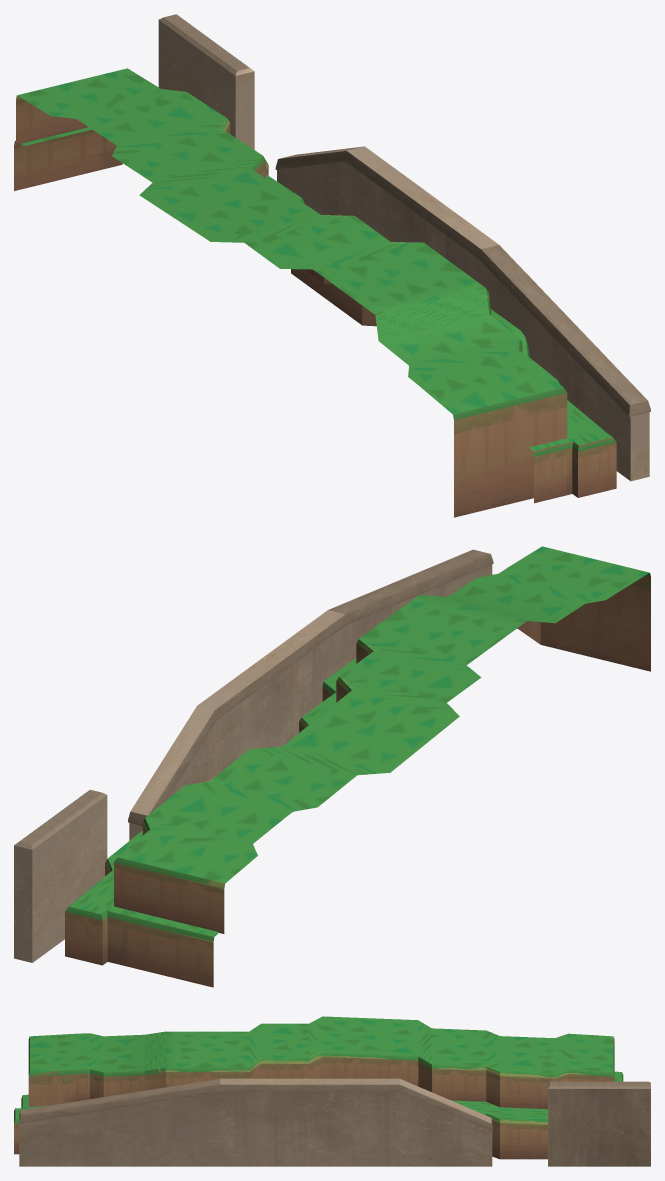
Rendered from Bat_Cite_6.fbx.
3 views of the same model, one above another, from view 1: azimuth 30°, elevation 25°; view 2: azimuth 150°, elevation 25°; view 3: azimuth 270°, elevation 25° (orthographic). The views are drawn at different scales.
Visible parts, largest first — view 1: Bat_Cite_6; view 2: Bat_Cite_6; view 3: Bat_Cite_6.
Part boxes in pixels (<box>): Bat_Cite_6: <box>14,14,650,517</box>; Bat_Cite_6: <box>14,546,650,987</box>; Bat_Cite_6: <box>14,1016,650,1166</box>.
Bounding box in the file's own units: 1556 × 850 × 6003.
